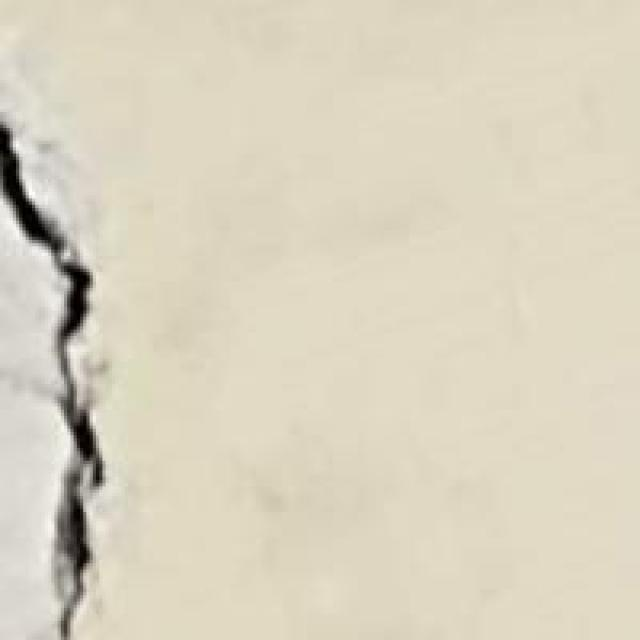Crack: (0, 93, 147, 637)
